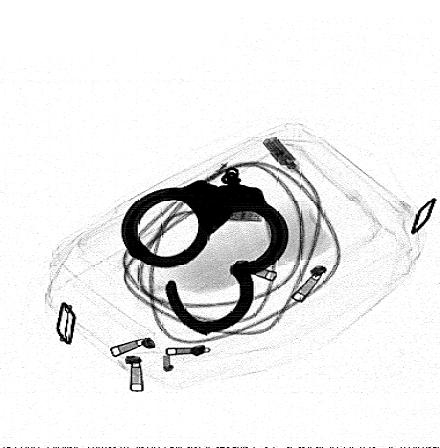HandCuffs: (118, 164, 292, 337)
